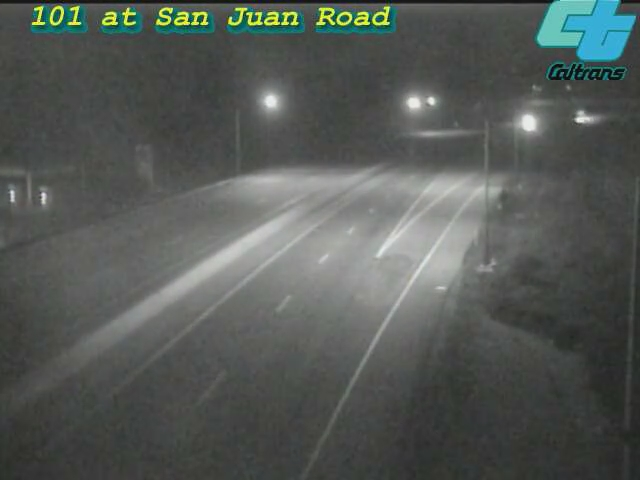vehicle: (564, 93, 614, 143), (500, 97, 550, 147)
